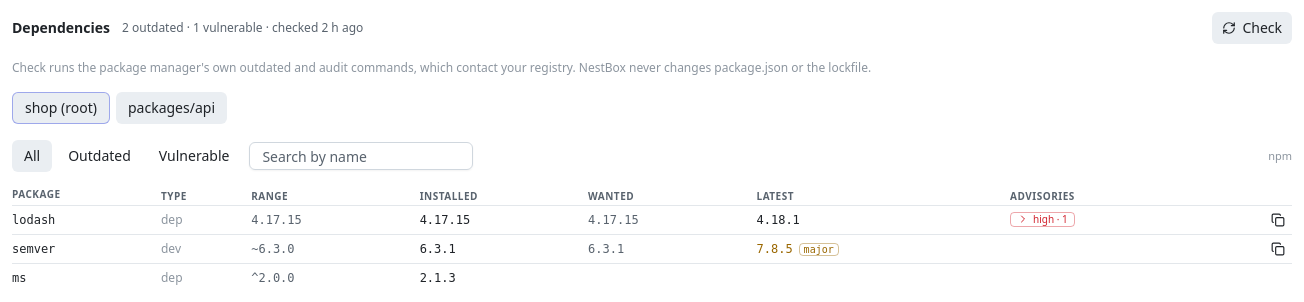
Test case: DepsPanel › picks a workspace package and shows failed steps
Click the button "packages/api".
click(172, 108)  # box [116,92,227,124]
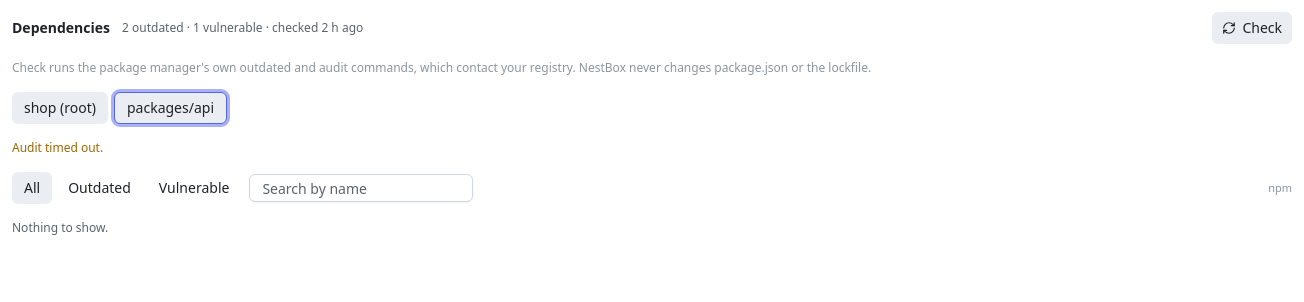
Expected: the text "Audit timed out." is shown, [12,139,103,156]
Expected: the text "Nothing to show." is shown, [12,219,108,236]
